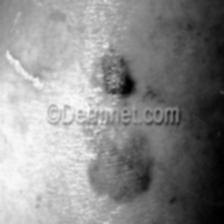Potentially Malignant Skin Tumors: (86, 122, 152, 208), (100, 50, 134, 98)
